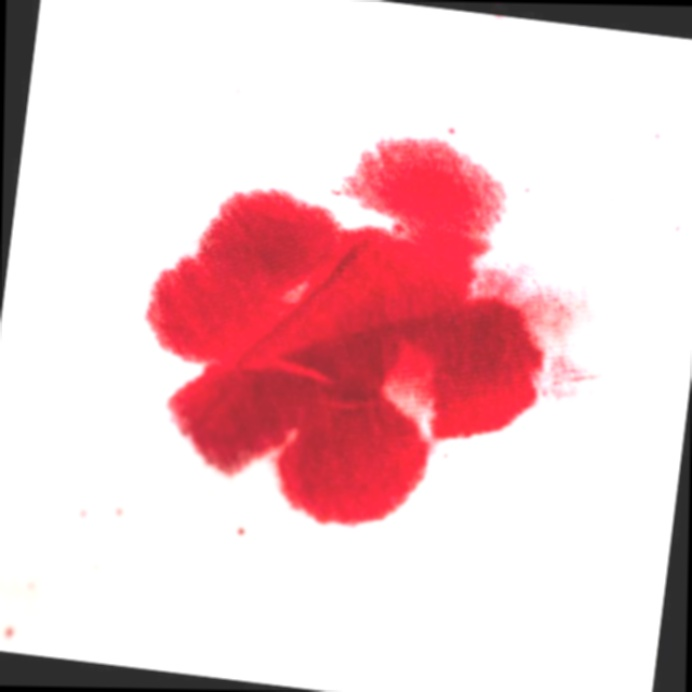blood: (150, 134, 549, 530)
